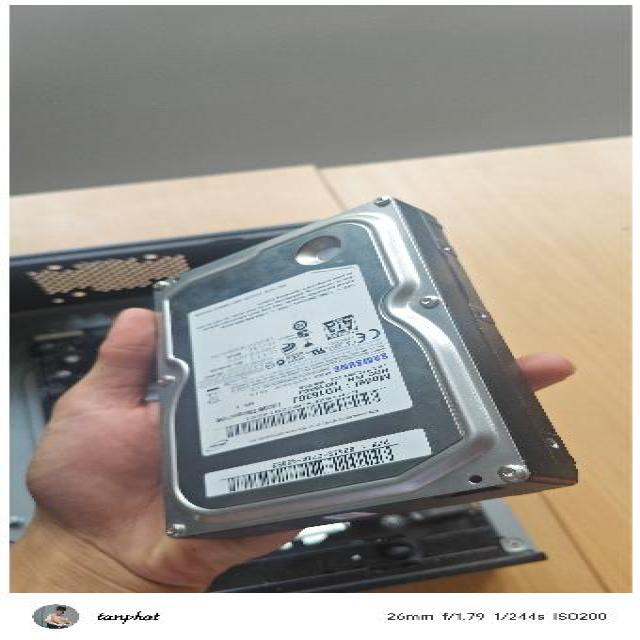DISK: (116, 192, 588, 538)
